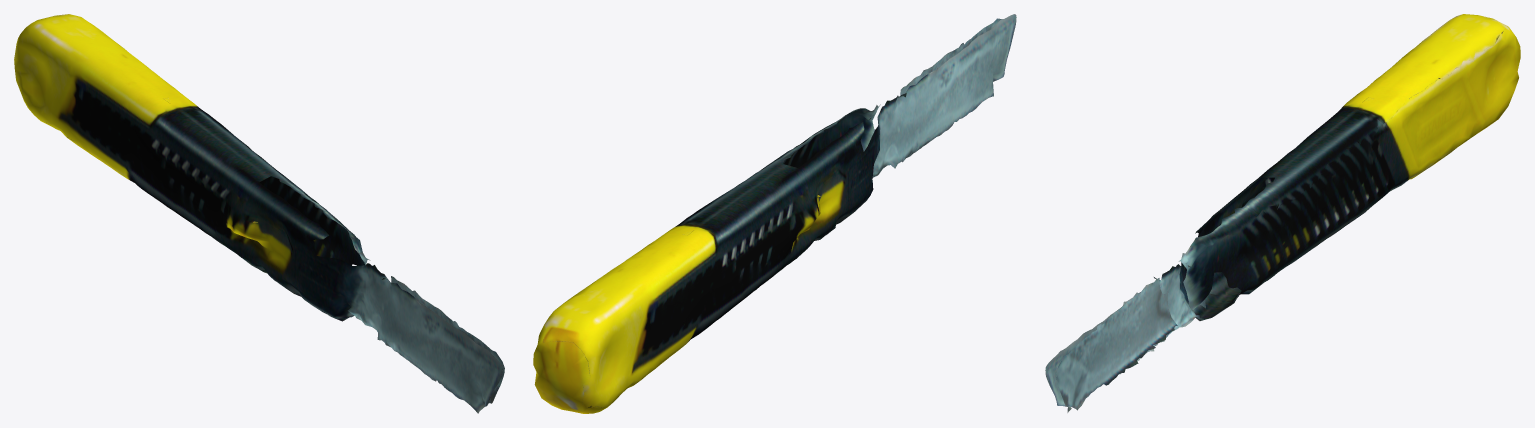
File: scan_align.obj
3 renders of one model, left to right at view 1: azimuth 30°, elevation 25°; view 2: azimuth 150°, elevation 25°; view 3: azimuth 330°, elevation 25°, orthographic.
Size of the model in its own units: 0.0176 by 0.0278 by 0.2346.
Materials: 1 (1 with a texture image).
